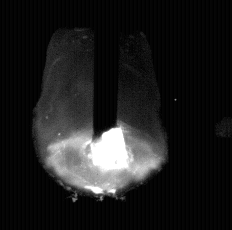arame: (94, 0, 118, 143)
poca: (33, 0, 162, 230)
